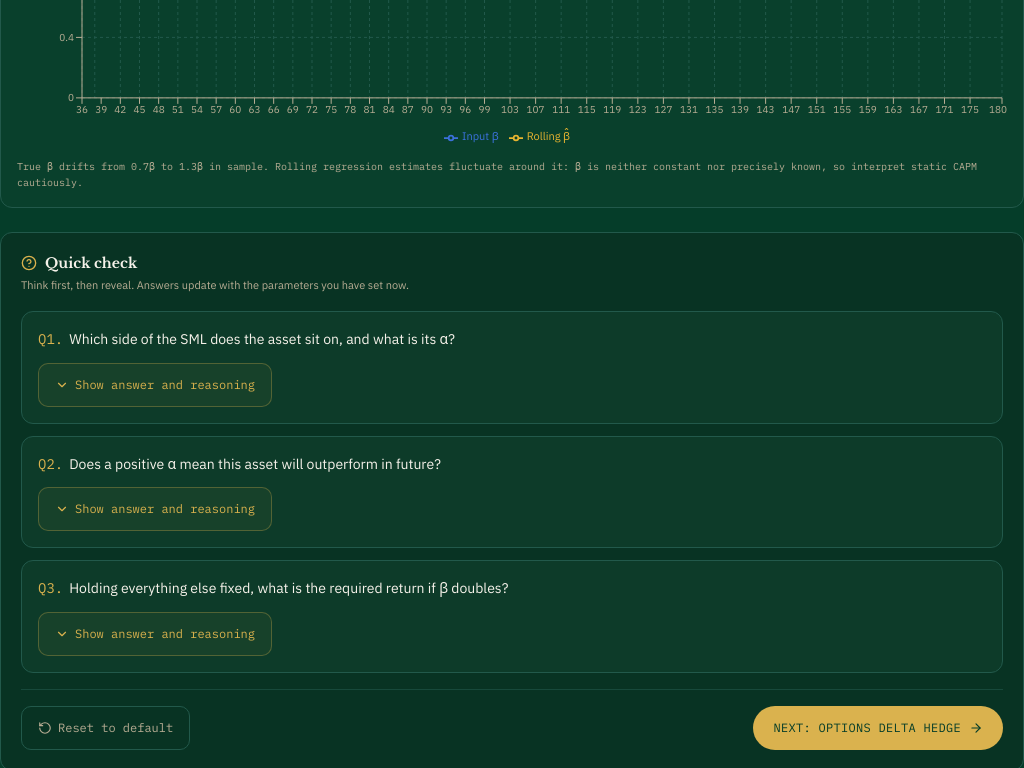
CAPM lab learning loop › default scenario, live interpretation, answer reveal, reset and next step
Later steps or results of the test are not shown.
(page scrolled)
Click the 1st button "Show answer and reasoning". click: (155, 385)
box: [38,363,272,407]
(page scrolled)
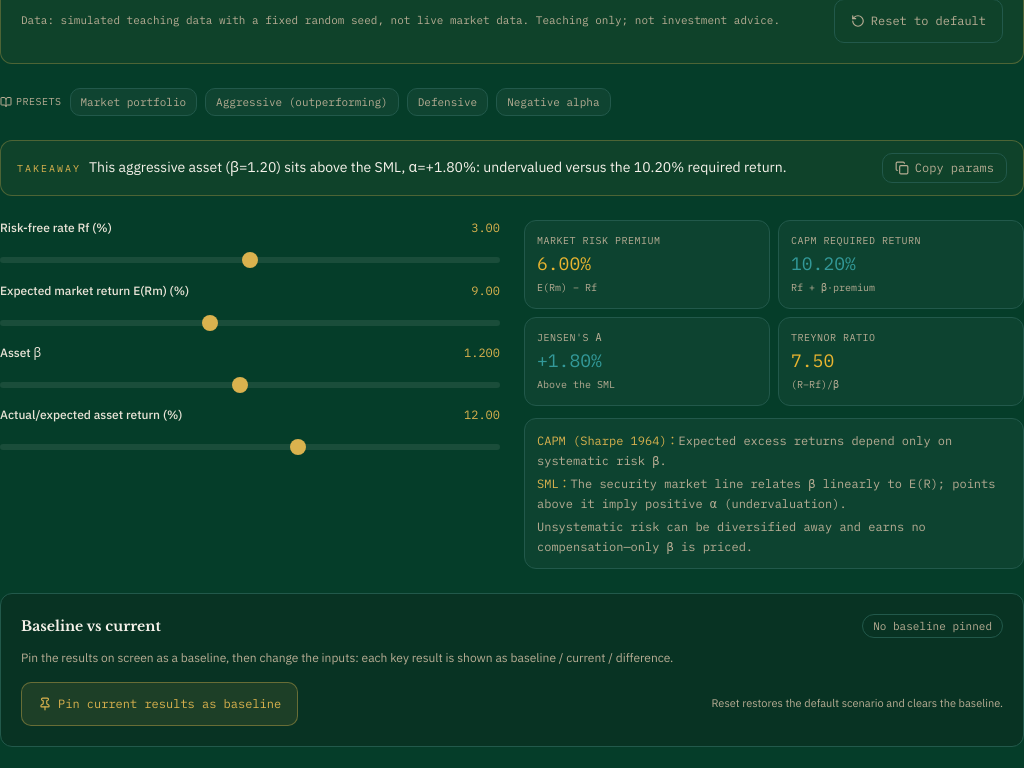
Set the slider named "Asset β" to "2". click: (395, 385)
box: [0,382,500,388]
(page scrolled)
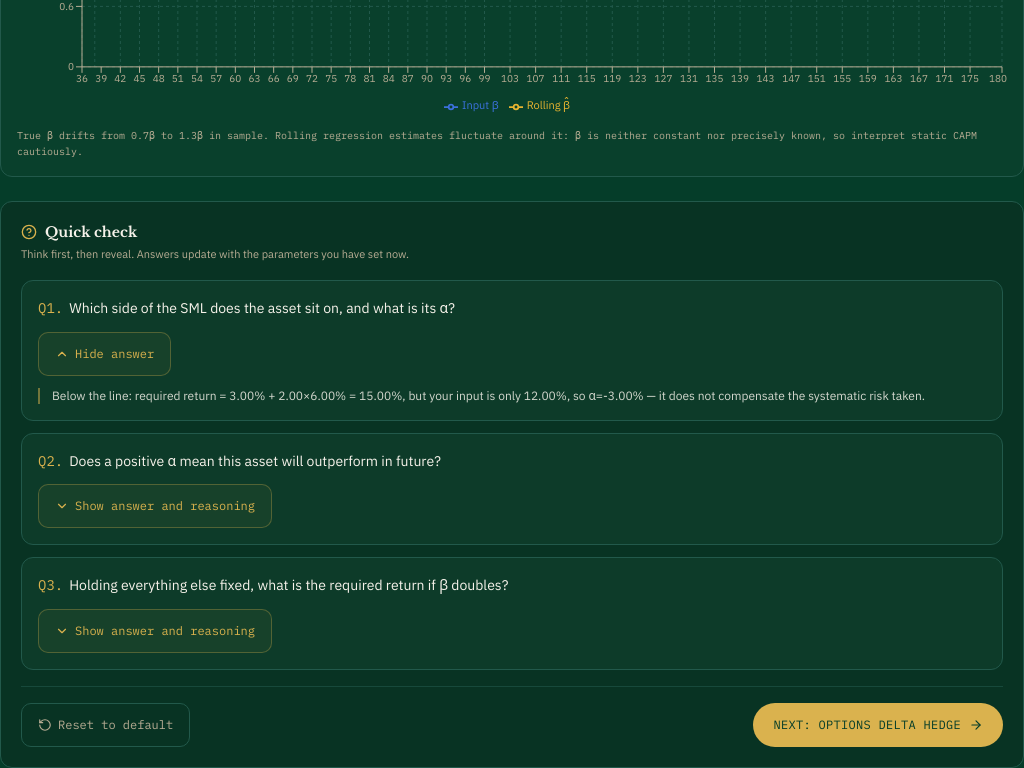
Check: the text "15.00%" is shown, box [52,388,925,403]
